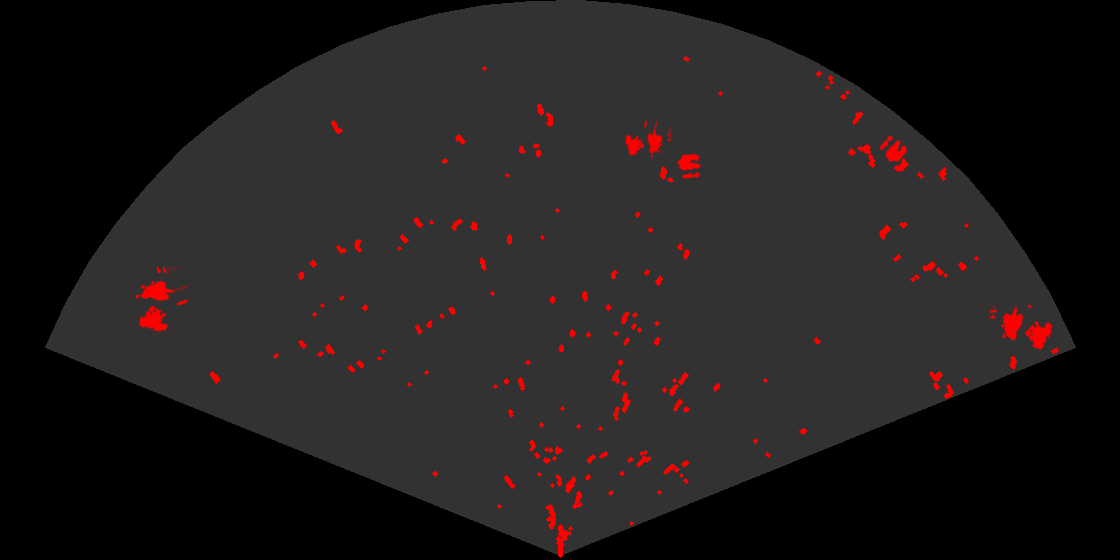ball: (878, 134, 908, 164), (676, 152, 703, 180)
cage: (133, 267, 187, 333), (990, 305, 1054, 351), (623, 121, 671, 159)
